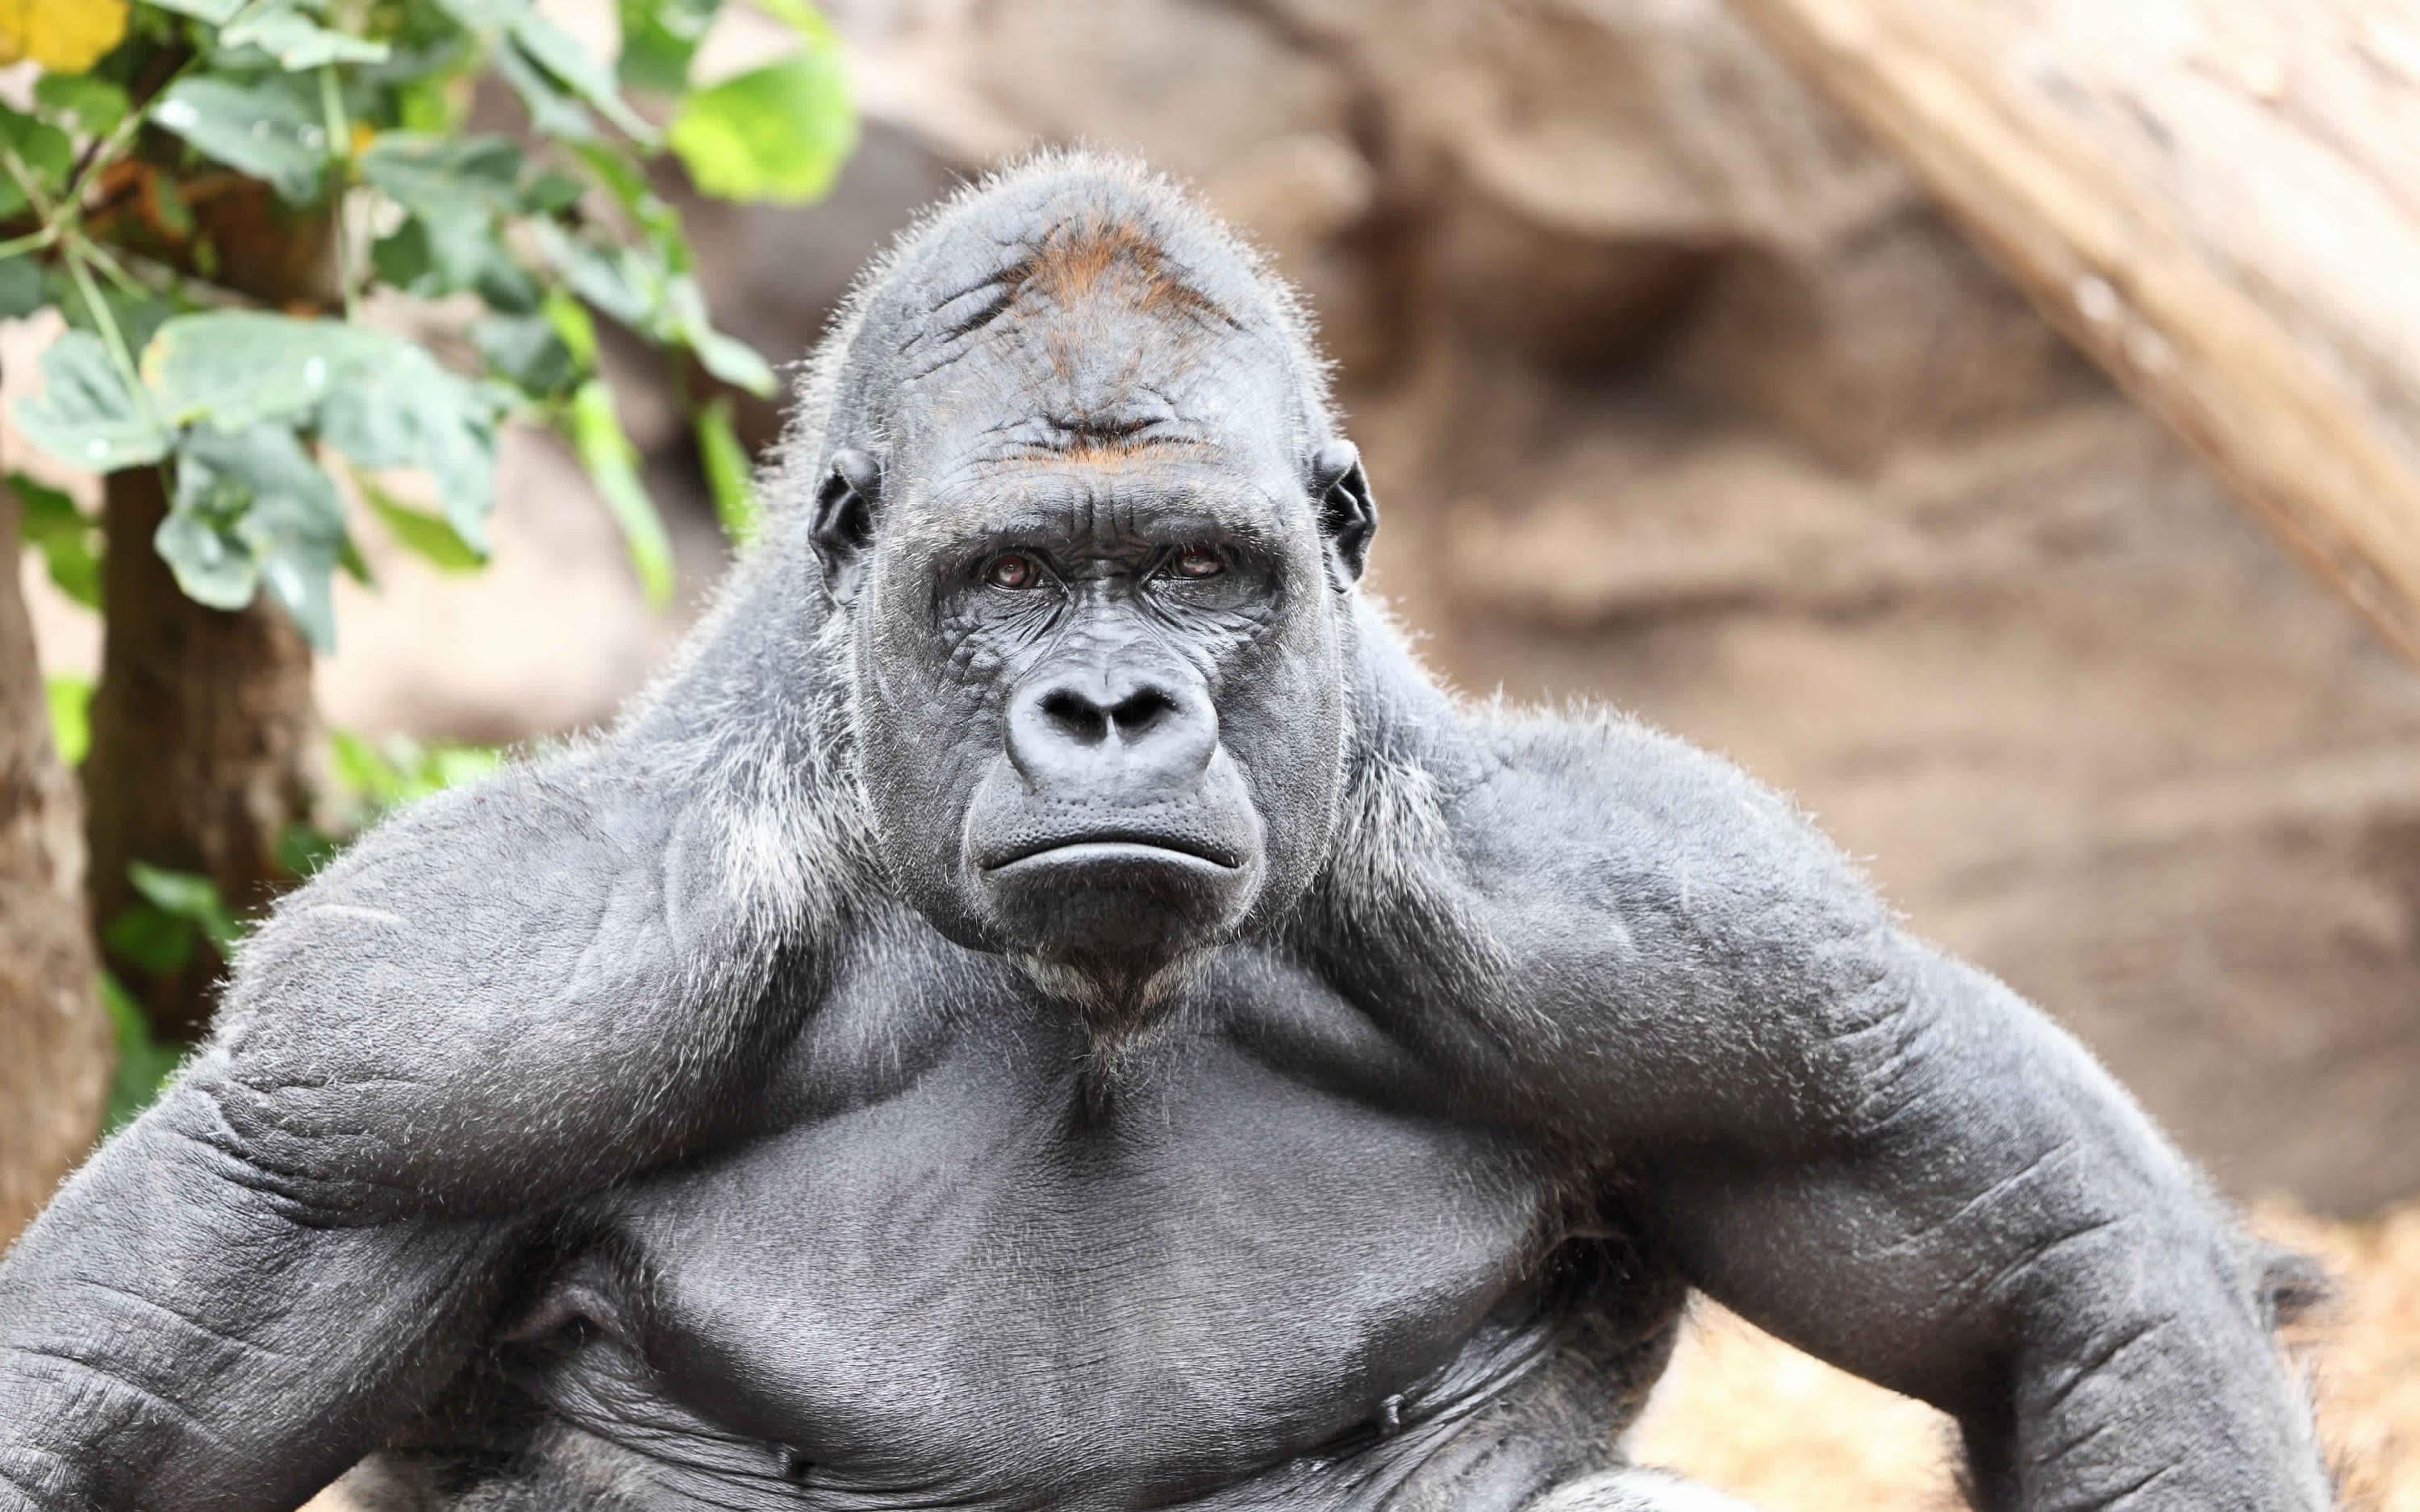Goriila: (188, 73, 2143, 1512)
